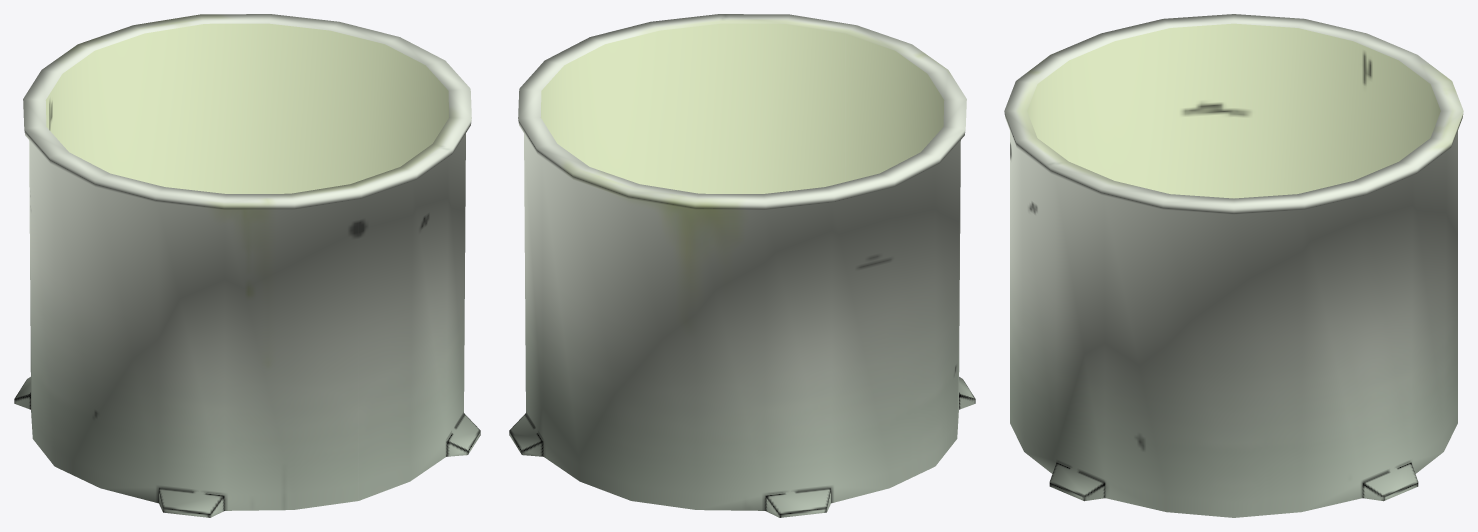
Rendered from Tank.fbx.
The picture shows the model from 3 angles, left to right: view 1: azimuth 30°, elevation 25°; view 2: azimuth 150°, elevation 25°; view 3: azimuth 270°, elevation 25°; orthographic projection.
Parts seen in each view (by area): view 1: Tank; view 2: Tank; view 3: Tank.
Part boxes in pixels (x1,y1,x2,y2): Tank: (14,14,480,517); Tank: (509,14,975,517); Tank: (1004,14,1463,517).
Bounding box in the file's own units: 800 × 600 × 800.
